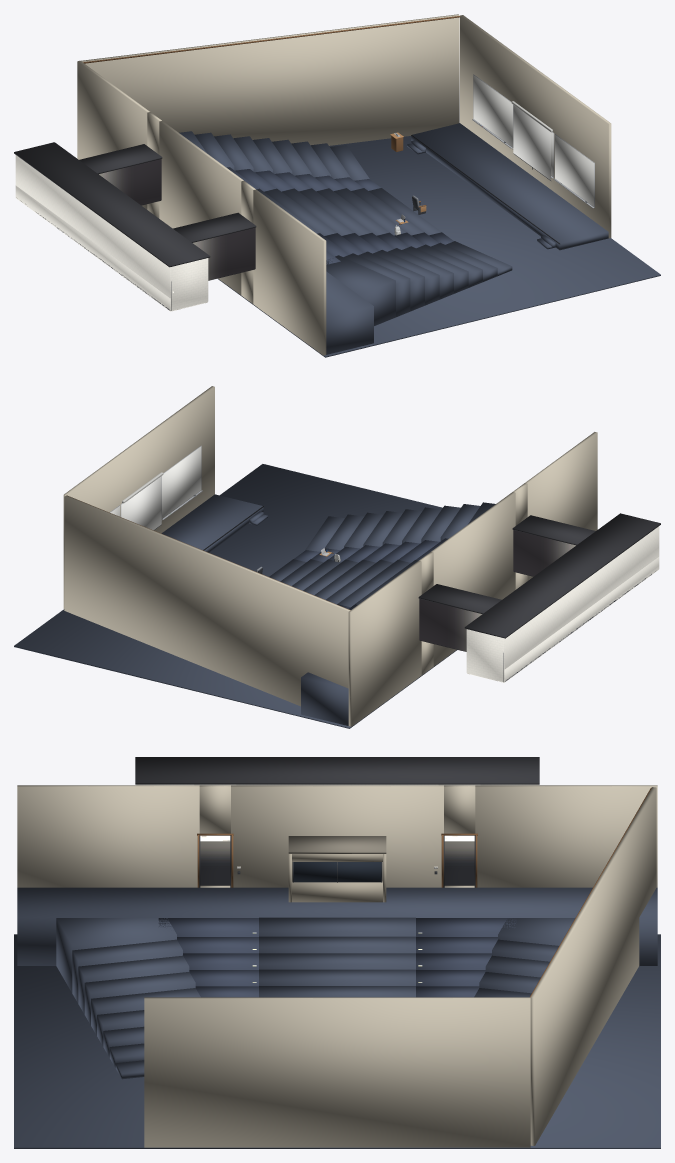
Rendered from school.glb.
3 views of the same model, one above another, from view 1: azimuth 30°, elevation 25°; view 2: azimuth 150°, elevation 25°; view 3: azimuth 270°, elevation 25° (orthographic). The views are drawn at different scales.
Visible parts, largest first — view 1: Lecture hall; view 2: Lecture hall; view 3: Lecture hall.
Part boxes in pixels (bbox=[...]): Lecture hall: bbox=[14, 14, 660, 357]; Lecture hall: bbox=[14, 386, 660, 728]; Lecture hall: bbox=[14, 757, 660, 1148].
Size of the model in its own units: 38.35 by 9.5 by 37.1.
Materials: 66 (7 with a texture image).
